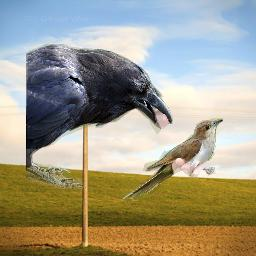Crow: (26, 44, 173, 189)
Cuckoo: (121, 118, 223, 199)
